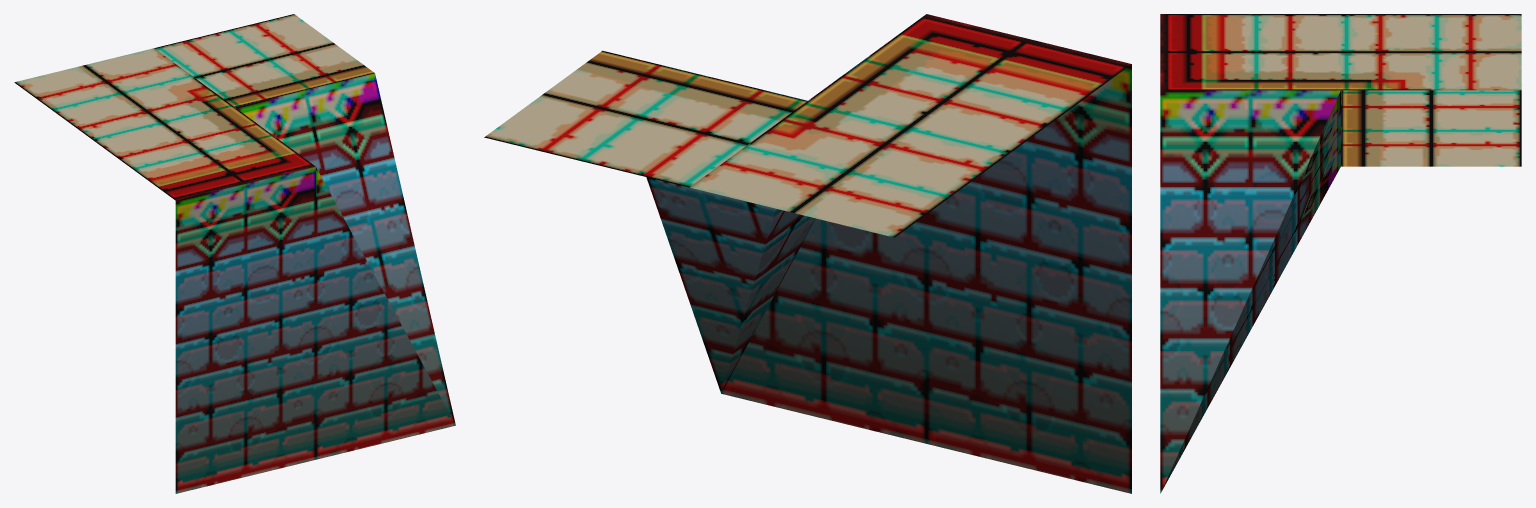
Rendered from arch_cathedral_wall_cornerInCap_B.FBX.
3 views of the same model, side by side, from view 1: azimuth 30°, elevation 25°; view 2: azimuth 150°, elevation 25°; view 3: azimuth 270°, elevation 25° (orthographic). The views are drawn at different scales.
Parts seen in each view (by area): view 1: arch_cathedral_wall_cornerInCap_B; view 2: arch_cathedral_wall_cornerInCap_B; view 3: arch_cathedral_wall_cornerInCap_B.
Part boxes in pixels (box(x1,y1,x2,y2)): arch_cathedral_wall_cornerInCap_B: box(14, 14, 455, 493); arch_cathedral_wall_cornerInCap_B: box(484, 14, 1131, 493); arch_cathedral_wall_cornerInCap_B: box(1160, 14, 1521, 493).
Bounding box in the file's own units: 4 × 4 × 4.
1 material, 1 textured.
